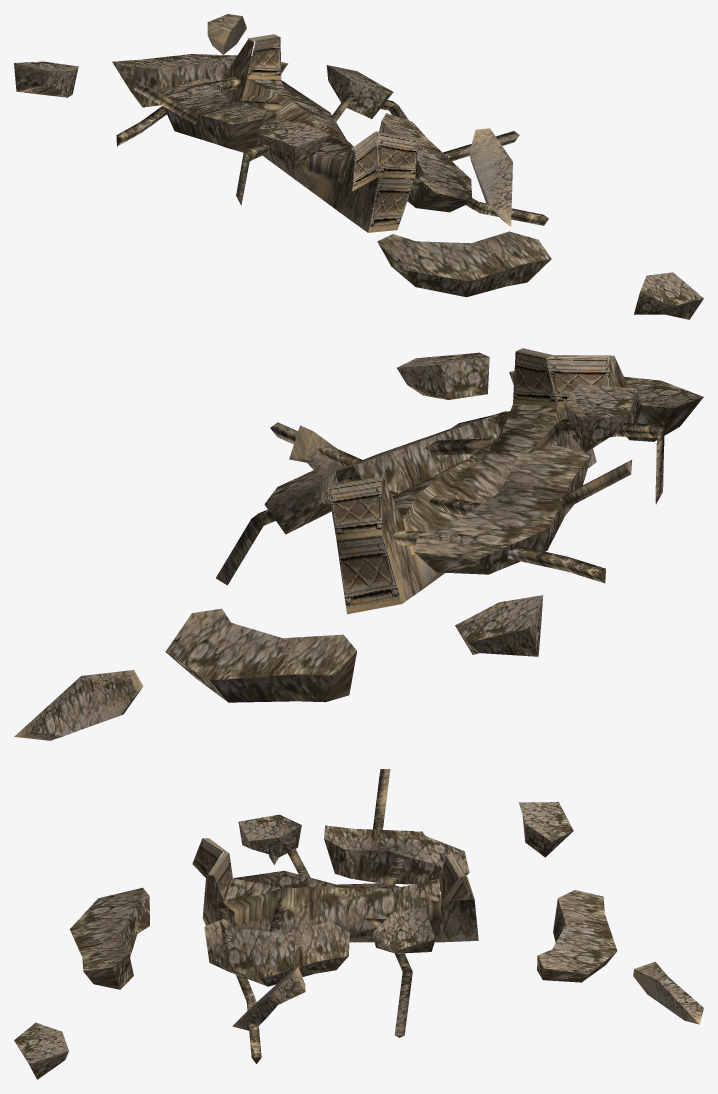
The model's file is M5_DestroyedBridge03.glb.
3 views of the same model, one above another, from view 1: azimuth 30°, elevation 25°; view 2: azimuth 150°, elevation 25°; view 3: azimuth 270°, elevation 25° (orthographic). The views are drawn at different scales.
Visible parts, largest first — view 1: M5_DESTROYEDBRIDGE03; view 2: M5_DESTROYEDBRIDGE03; view 3: M5_DESTROYEDBRIDGE03.
Part boxes in pixels (x1,y1,x2,y2): M5_DESTROYEDBRIDGE03: (14,14,703,319); M5_DESTROYEDBRIDGE03: (14,348,703,740); M5_DESTROYEDBRIDGE03: (14,769,703,1079).
Bounding box in the file's own units: 15.3 × 6.77 × 26.67.
Materials: 3 (3 with a texture image).
